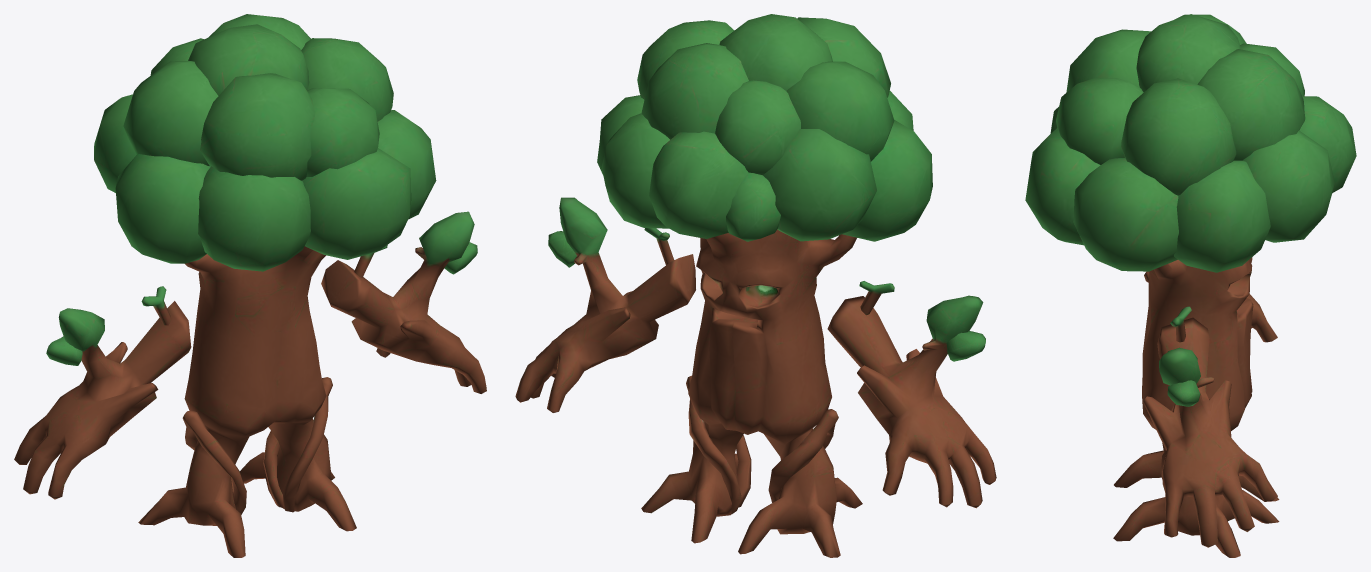
Rendered from treant.glb.
3 renders of one model, left to right at view 1: azimuth 30°, elevation 25°; view 2: azimuth 150°, elevation 25°; view 3: azimuth 270°, elevation 25°, orthographic. The views are drawn at different scales.
Visible parts, largest first — view 1: Part1, Part0, Part2; view 2: Part1, Part0, Part2; view 3: Part1, Part0, Part2.
Boxes of the visible parts, left/top/right/bottom form: Part1: left=94, top=14, right=436, bottom=271; Part0: left=138, top=245, right=387, bottom=557; Part2: left=14, top=211, right=486, bottom=499; Part1: left=597, top=14, right=932, bottom=242; Part0: left=641, top=228, right=894, bottom=557; Part2: left=515, top=197, right=996, bottom=508; Part1: left=1025, top=14, right=1356, bottom=272; Part0: left=1059, top=240, right=1279, bottom=557; Part2: left=1143, top=271, right=1277, bottom=547.
Bounding box in the file's own units: 2.61 × 2.7 × 1.68.
Materials: 1 (1 with a texture image).
